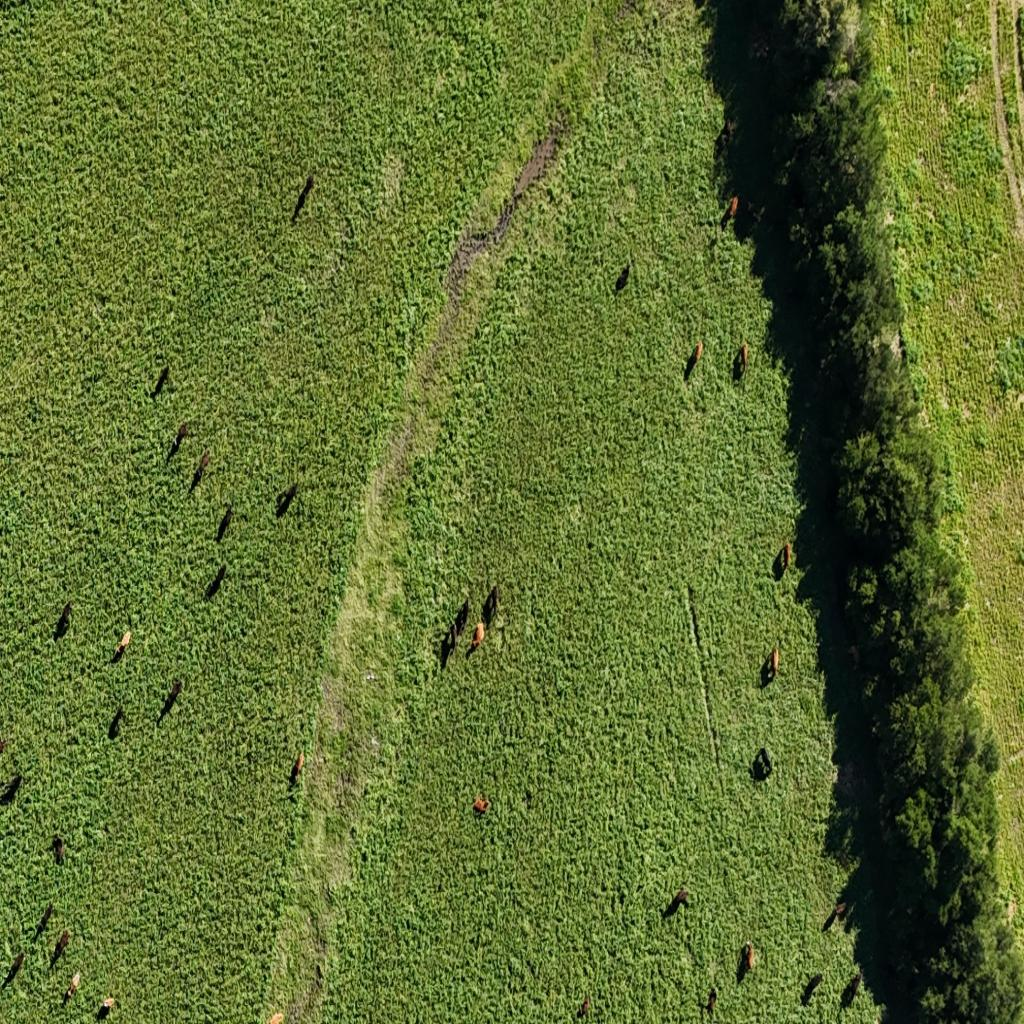cow: (444, 597, 473, 665), (268, 476, 311, 512), (468, 590, 490, 651), (157, 679, 183, 724), (292, 173, 314, 221), (612, 255, 638, 294), (190, 450, 210, 494), (53, 601, 73, 640), (662, 887, 688, 917), (50, 928, 70, 967), (206, 564, 227, 600), (151, 364, 173, 398), (822, 899, 846, 930), (216, 502, 234, 542), (440, 623, 456, 667), (168, 424, 187, 460), (685, 341, 703, 379), (738, 940, 755, 980), (1, 771, 22, 803), (112, 630, 132, 663), (802, 974, 824, 1004), (36, 901, 54, 937), (7, 950, 26, 984), (483, 584, 499, 624), (722, 193, 739, 229), (763, 647, 779, 685), (0, 738, 16, 775), (108, 706, 125, 740), (51, 834, 66, 866), (778, 542, 791, 578), (703, 987, 718, 1018), (97, 995, 116, 1019), (738, 341, 750, 379), (291, 754, 305, 786), (458, 598, 470, 634), (718, 118, 732, 148), (847, 971, 861, 1001), (66, 970, 81, 998), (759, 748, 772, 776), (474, 793, 490, 813), (578, 995, 591, 1019), (301, 174, 313, 199), (266, 1010, 286, 1024), (750, 756, 759, 780), (899, 340, 907, 362), (524, 788, 532, 806)
